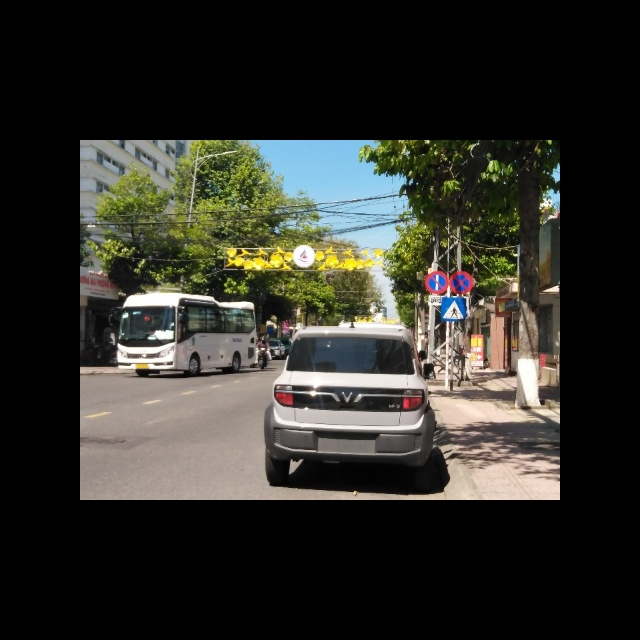Cấm dừng xe và đỗ xe: (449, 271, 474, 295)
Cấm đỗ xe ngày lẻ: (425, 271, 449, 294)
Đường dành cho người đi bộ: (441, 297, 467, 323)
